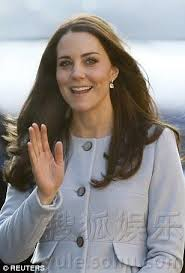hand: (27, 122, 65, 195)
